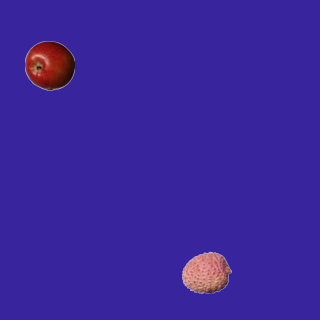Apple Braeburn: (24, 40, 74, 90)
Lychee: (181, 247, 231, 297)
